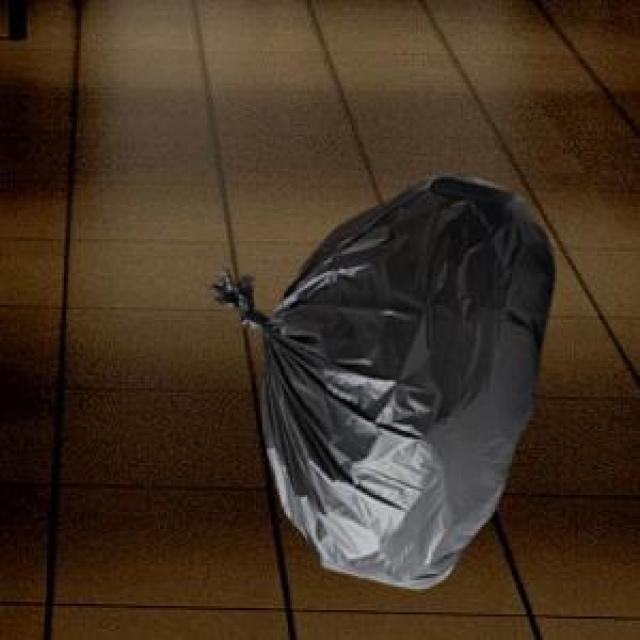waste: (214, 176, 554, 588)
